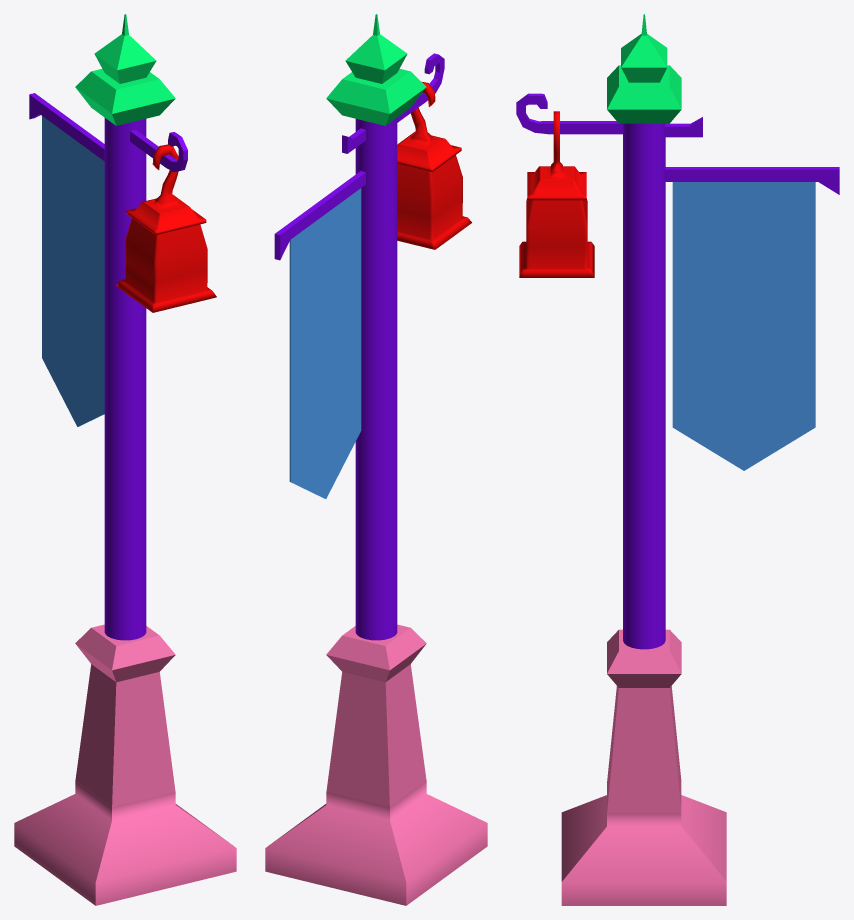
File: Lamp.fbx
3 views of the same model, side by side, from view 1: azimuth 30°, elevation 25°; view 2: azimuth 150°, elevation 25°; view 3: azimuth 270°, elevation 25° (orthographic).
Visible parts, largest first — view 1: polySurface1, pCylinder1, pCube2, pCube3, polySurface2; view 2: polySurface1, pCylinder1, pCube2, pCube3, polySurface2; view 3: pCube2, polySurface1, pCylinder1, pCube3, polySurface2.
Boxes of the visible parts, x1=… form: polySurface1: x1=14, y1=624, x2=236, y2=905; pCylinder1: x1=29, y1=93, x2=187, y2=640; pCube2: x1=42, y1=116, x2=104, y2=426; pCube3: x1=116, y1=144, x2=216, y2=312; polySurface2: x1=75, y1=14, x2=175, y2=125; polySurface1: x1=265, y1=624, x2=487, y2=905; pCylinder1: x1=274, y1=53, x2=444, y2=640; pCube2: x1=289, y1=188, x2=361, y2=498; pCube3: x1=397, y1=82, x2=471, y2=249; polySurface2: x1=326, y1=14, x2=426, y2=125; pCube2: x1=672, y1=182, x2=815, y2=470; polySurface1: x1=561, y1=629, x2=726, y2=905; pCylinder1: x1=516, y1=93, x2=839, y2=649; pCube3: x1=519, y1=111, x2=594, y2=277; polySurface2: x1=607, y1=14, x2=681, y2=123.
Bounding box in the file's own units: 4.94 × 28.28 × 9.67.
